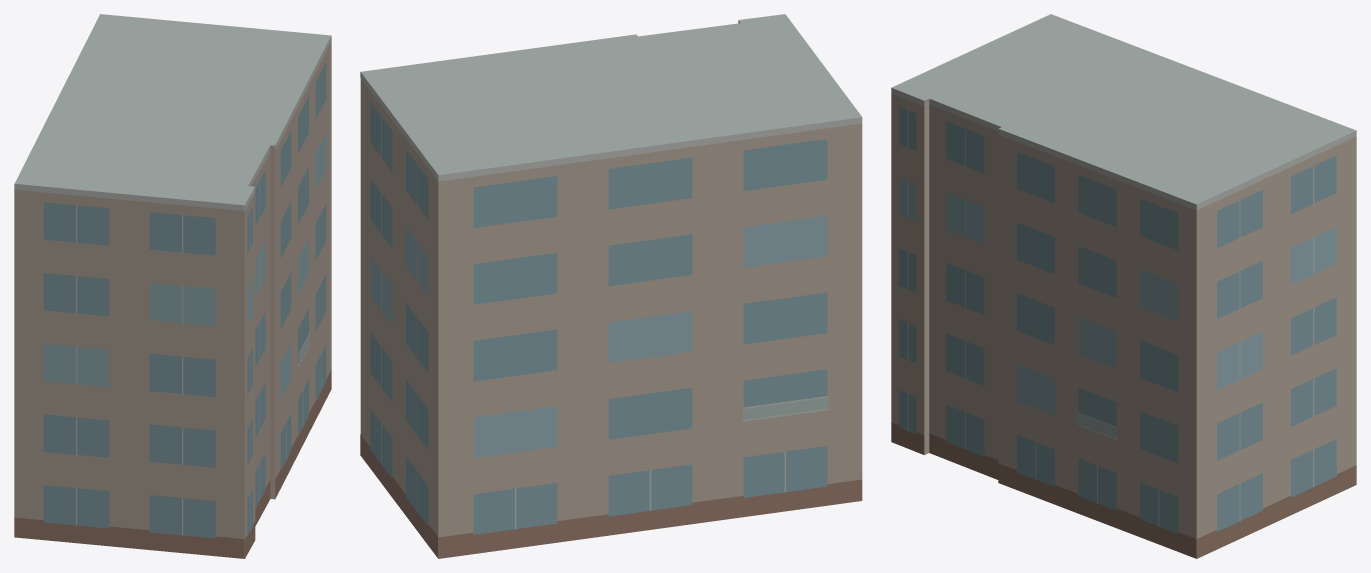
The model's file is survey-upis-32948793.glb.
3 views of the same model, side by side, from view 1: azimuth 30°, elevation 25°; view 2: azimuth 150°, elevation 25°; view 3: azimuth 270°, elevation 25° (orthographic). The views are drawn at different scales.
Parts seen in each view (by area): view 1: survey-upis-32948793.tmp; view 2: survey-upis-32948793.tmp; view 3: survey-upis-32948793.tmp.
Boxes of the visible parts, x1,y1,x2,y2 form: survey-upis-32948793.tmp: (14,14,331,558); survey-upis-32948793.tmp: (360,14,862,558); survey-upis-32948793.tmp: (891,14,1356,558).
Size of the model in its own units: 17.02 by 14.75 by 17.57.
